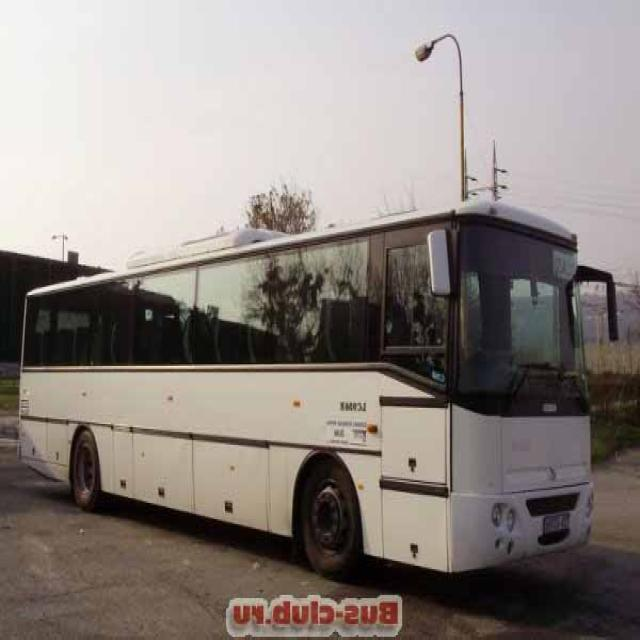bus: (17, 193, 624, 591)
